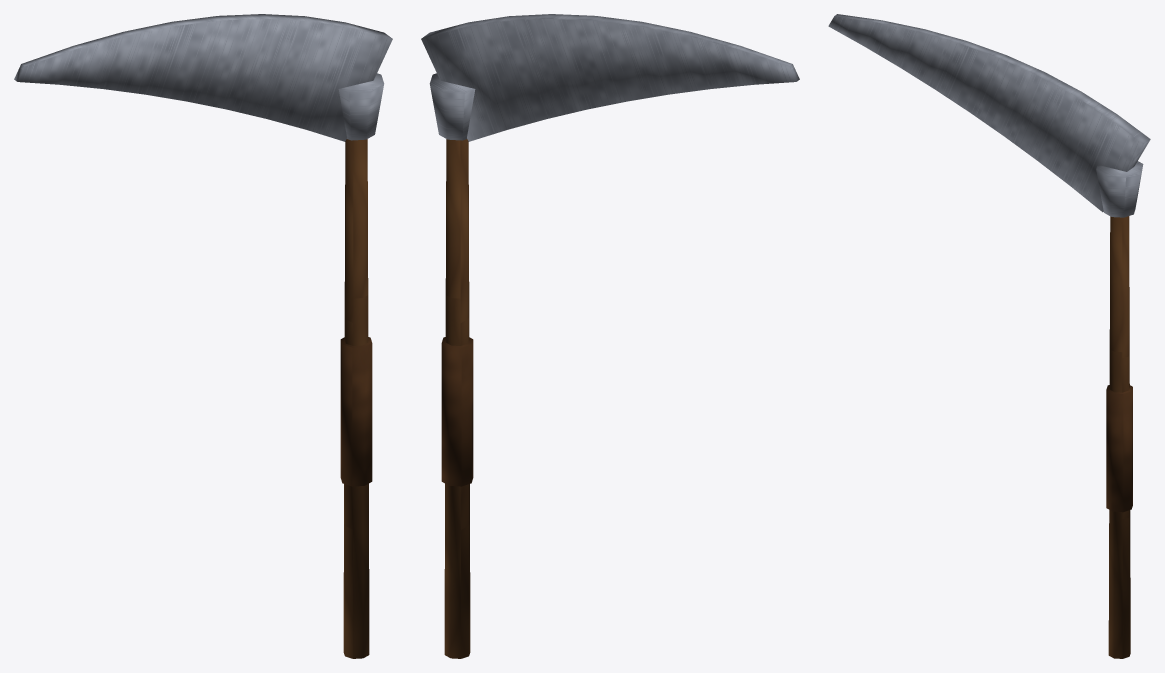
Rendered from w_hook_scythe.glb.
3 views of the same model, side by side, from view 1: azimuth 30°, elevation 25°; view 2: azimuth 150°, elevation 25°; view 3: azimuth 330°, elevation 25° (orthographic). The views are drawn at different scales.
Parts seen in each view (by area): view 1: w_hook_scythe; view 2: w_hook_scythe; view 3: w_hook_scythe.
Part boxes in pixels (bbox=[...]): w_hook_scythe: bbox=[14, 14, 392, 658]; w_hook_scythe: bbox=[421, 14, 799, 658]; w_hook_scythe: bbox=[828, 14, 1150, 658].
Bounding box in the file's own units: 0.4496 × 0.7791 × 0.06.
3 materials, 3 textured.
